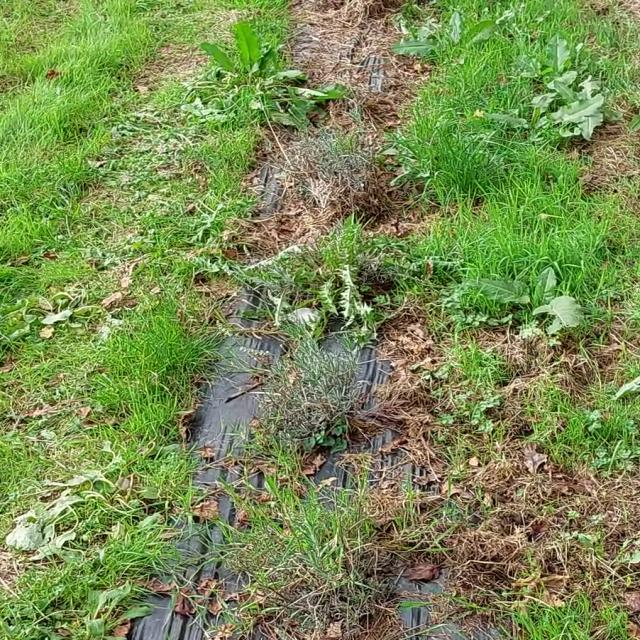organic waste: (508, 13, 640, 133), (190, 12, 312, 136), (0, 275, 131, 354), (10, 473, 116, 553), (484, 260, 591, 339), (406, 0, 501, 67), (529, 65, 610, 137)
